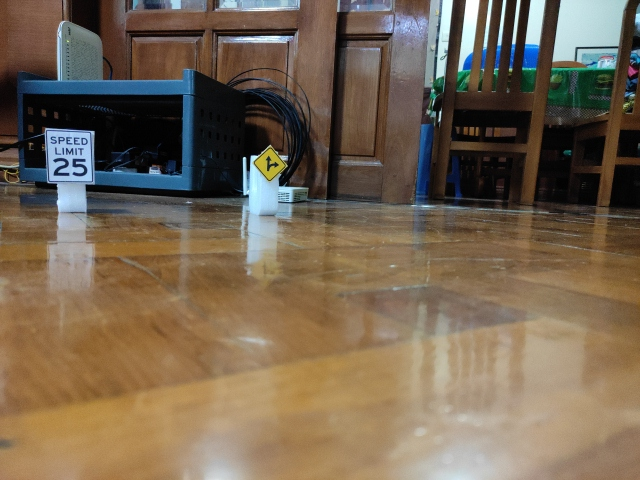Speed Limit 25: (44, 127, 95, 186)
Straight Or Right Sign: (254, 146, 289, 182)
